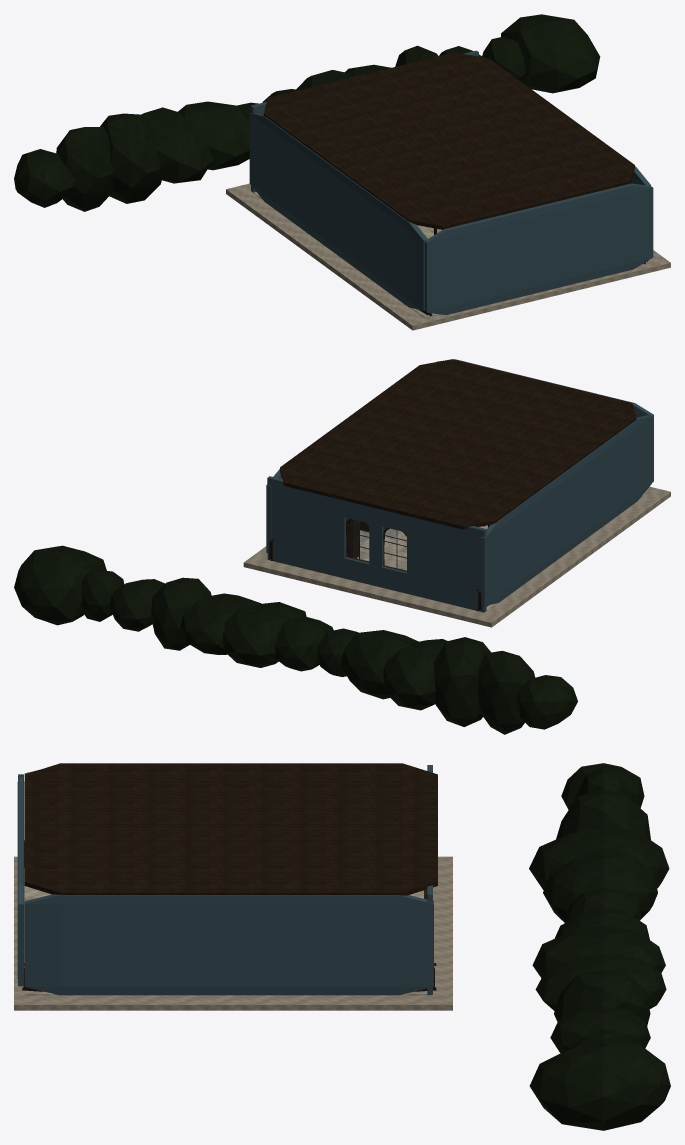
The model's file is museum-1.glb.
The picture shows the model from 3 angles, top to bottom: view 1: azimuth 30°, elevation 25°; view 2: azimuth 150°, elevation 25°; view 3: azimuth 270°, elevation 25°; orthographic projection. The views are drawn at different scales.
Visible parts, largest first — view 1: Walnut ceiling.001, Distant view beyond gallery windows.001, Entry wall.001, Deep teal gallery side walls.001, Terrain.001; view 2: Walnut ceiling.001, Distant view beyond gallery windows.001, Deep teal gallery side walls.001, Terrain.001, Rear wall between the windows.001, Rear wall under windows.001, Rear wall over arched windows.001, Hand-laid limestone square tiles.001; view 3: Walnut ceiling.001, Deep teal gallery side walls.001, Distant view beyond gallery windows.001, Terrain.001, Entry wall.001, Hand-laid limestone square tiles.001.
Part boxes in pixels (x1,y1,x2,y2): Walnut ceiling.001: (263,52,634,229); Distant view beyond gallery windows.001: (14,14,600,211); Entry wall.001: (424,183,653,314); Deep teal gallery side walls.001: (249,112,650,310); Terrain.001: (226,183,670,330); Walnut ceiling.001: (280,359,636,529); Distant view beyond gallery windows.001: (14,545,577,734); Deep teal gallery side walls.001: (266,415,651,606); Terrain.001: (243,486,670,627); Rear wall between the windows.001: (271,499,479,591); Rear wall under windows.001: (267,541,486,612); Rear wall over arched windows.001: (267,476,486,549); Hand-laid limestone square tiles.001: (281,489,650,610); Walnut ceiling.001: (24,763,437,895); Deep teal gallery side walls.001: (24,770,433,995); Distant view beyond gallery windows.001: (529,763,670,1130); Terrain.001: (14,856,452,1010); Entry wall.001: (17,774,24,986); Hand-laid limestone square tiles.001: (24,886,431,995).
Size of the model in its own units: 29.83 by 7.03 by 25.29.
Materials: 12 (3 with a texture image).
